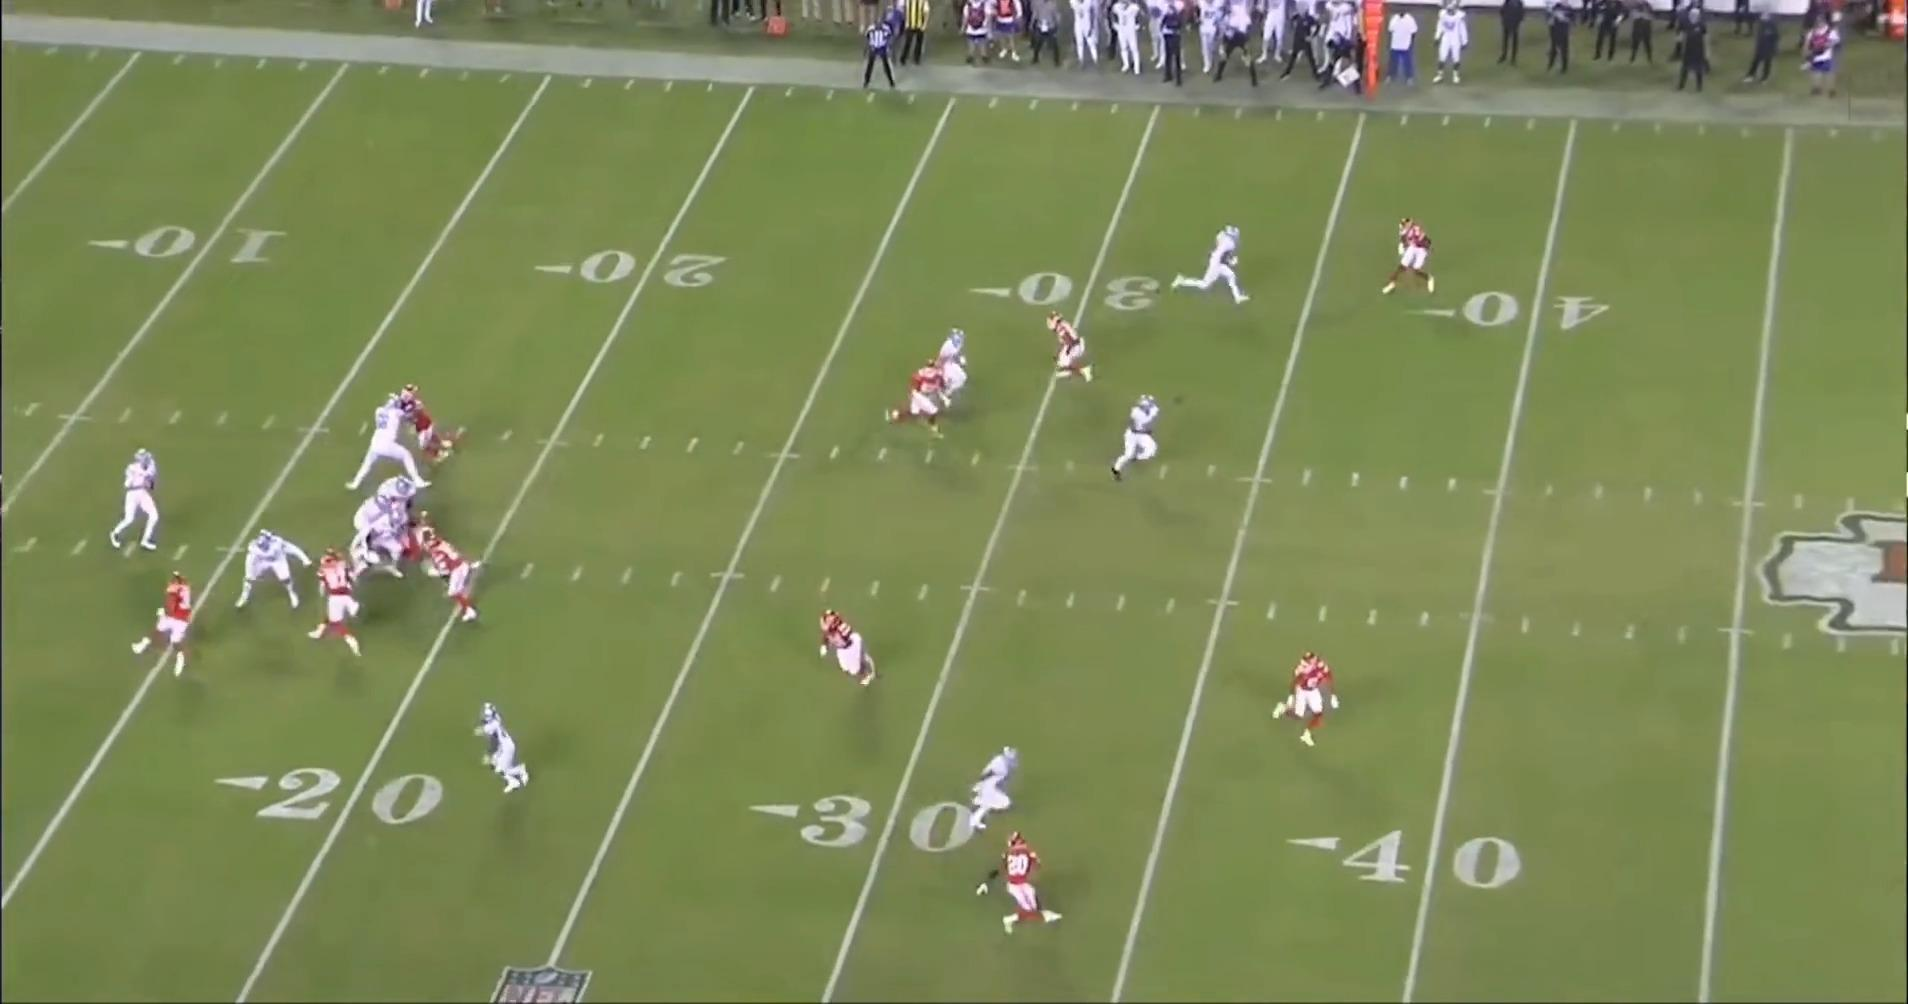defense: (993, 834, 1066, 943), (1278, 651, 1346, 757), (131, 568, 197, 677), (309, 549, 368, 657), (423, 530, 490, 623), (819, 609, 887, 692), (885, 362, 951, 444), (1382, 213, 1442, 299), (392, 381, 453, 459), (1041, 314, 1093, 390), (404, 515, 437, 574)
oline: (350, 397, 437, 497), (237, 526, 319, 613), (350, 508, 404, 587), (352, 493, 394, 532), (377, 473, 419, 506)
qb: (105, 447, 168, 555)
ref: (852, 10, 898, 90)
skill: (1177, 226, 1252, 312), (473, 700, 535, 798), (957, 747, 1018, 835), (1103, 395, 1160, 486), (931, 324, 972, 415)
